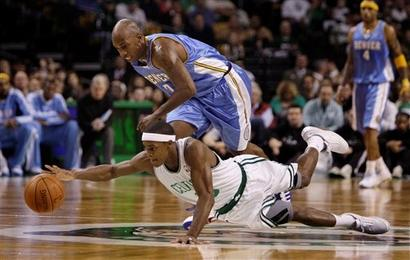10+: (8, 8, 408, 239)
down: (120, 117, 377, 235)
